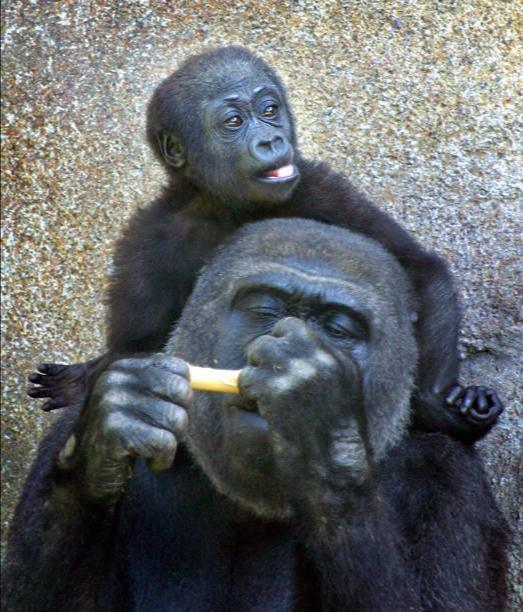gorille_Autres: (23, 15, 509, 612)
